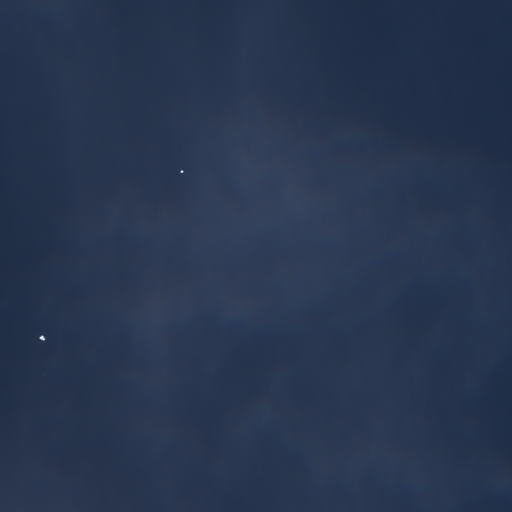Iceberg: (39, 335, 45, 340), (180, 170, 183, 172)
